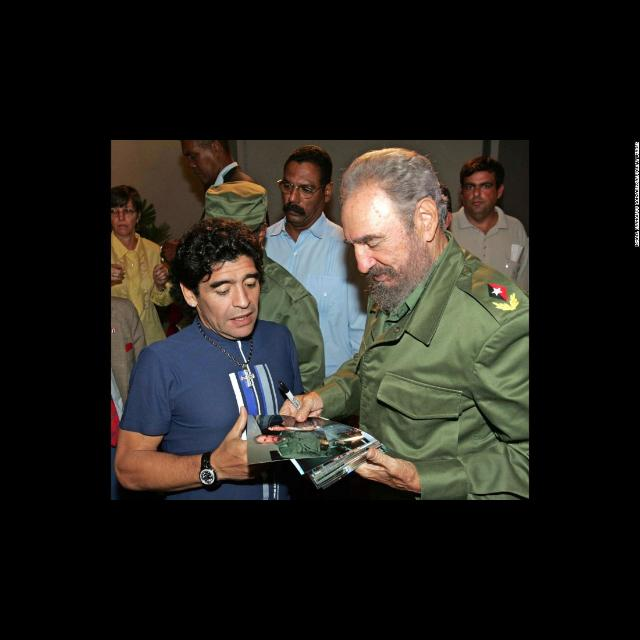head: (342, 154, 442, 292), (180, 234, 262, 340), (280, 146, 334, 224), (204, 198, 268, 262), (460, 158, 504, 218), (107, 184, 143, 236)
person: (426, 152, 544, 474), (86, 184, 182, 462)
